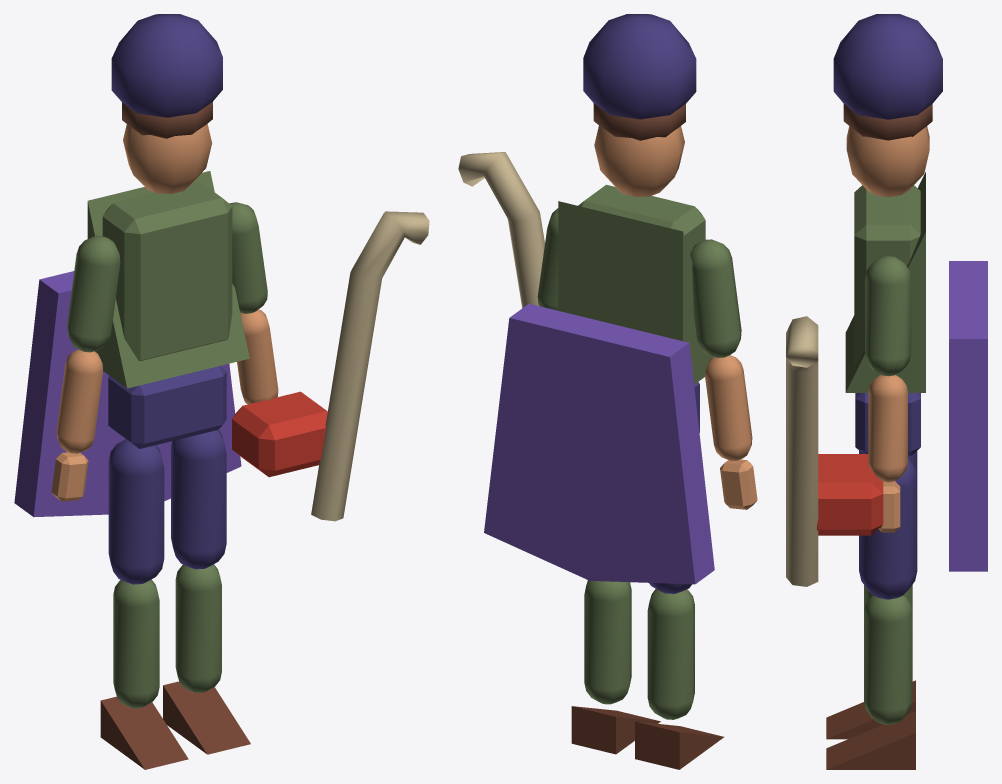
File: adventurer.rustic.glb
3 views of the same model, side by side, from view 1: azimuth 30°, elevation 25°; view 2: azimuth 150°, elevation 25°; view 3: azimuth 270°, elevation 25° (orthographic).
Visible parts, largest first — view 1: torso, accessory.back, accessory.main-hand, accessory.head, thigh.left, pelvis, thigh.right, accessory.waist, tunic, shin.left, shin.right, upper-arm.left (+8 smaller); view 2: accessory.back, tunic, accessory.head, shin.left, shin.right, accessory.main-hand, upper-arm.left, head, forearm.left, torso, foot.left, foot.right (+3 smaller); view 3: accessory.back, accessory.head, accessory.main-hand, shin.right, torso, upper-arm.right, accessory.waist, thigh.right, head, tunic, forearm.right, foot.right (+4 smaller).
Part boxes in pixels (x1=…): torso: x1=102, y1=182, x2=232, y2=360; accessory.back: x1=14, y1=271, x2=241, y2=517; accessory.main-hand: x1=311, y1=211, x2=429, y2=521; accessory.head: x1=111, y1=14, x2=222, y2=117; thigh.left: x1=108, y1=439, x2=164, y2=584; pelvis: x1=108, y1=366, x2=226, y2=448; thigh.right: x1=171, y1=430, x2=226, y2=569; accessory.waist: x1=232, y1=391, x2=327, y2=477; tunic: x1=87, y1=171, x2=249, y2=388; shin.left: x1=113, y1=579, x2=159, y2=708; shin.right: x1=175, y1=564, x2=221, y2=693; upper-arm.left: x1=67, y1=235, x2=120, y2=352; accessory.back: x1=484, y1=303, x2=714, y2=584; tunic: x1=558, y1=201, x2=713, y2=384; accessory.head: x1=583, y1=14, x2=696, y2=119; shin.left: x1=647, y1=589, x2=694, y2=719; shin.right: x1=584, y1=580, x2=631, y2=704; accessory.main-hand: x1=458, y1=152, x2=544, y2=308; upper-arm.left: x1=690, y1=239, x2=741, y2=357; head: x1=594, y1=125, x2=684, y2=196; forearm.left: x1=705, y1=355, x2=752, y2=460; torso: x1=578, y1=184, x2=705, y2=253; foot.left: x1=635, y1=721, x2=723, y2=769; foot.right: x1=571, y1=706, x2=660, y2=754; accessory.back: x1=949, y1=261, x2=987, y2=571; accessory.head: x1=833, y1=14, x2=942, y2=119; accessory.main-hand: x1=786, y1=316, x2=818, y2=586; shin.right: x1=864, y1=595, x2=912, y2=724; torso: x1=854, y1=185, x2=920, y2=364; upper-arm.right: x1=865, y1=256, x2=911, y2=376; accessory.waist: x1=817, y1=454, x2=883, y2=535; thigh.right: x1=859, y1=459, x2=917, y2=599; head: x1=846, y1=126, x2=929, y2=197; tunic: x1=845, y1=172, x2=925, y2=392; forearm.right: x1=868, y1=375, x2=907, y2=482; foot.right: x1=826, y1=711, x2=915, y2=769.
Size of the model in its own units: 1.58 by 3.29 by 0.83.
